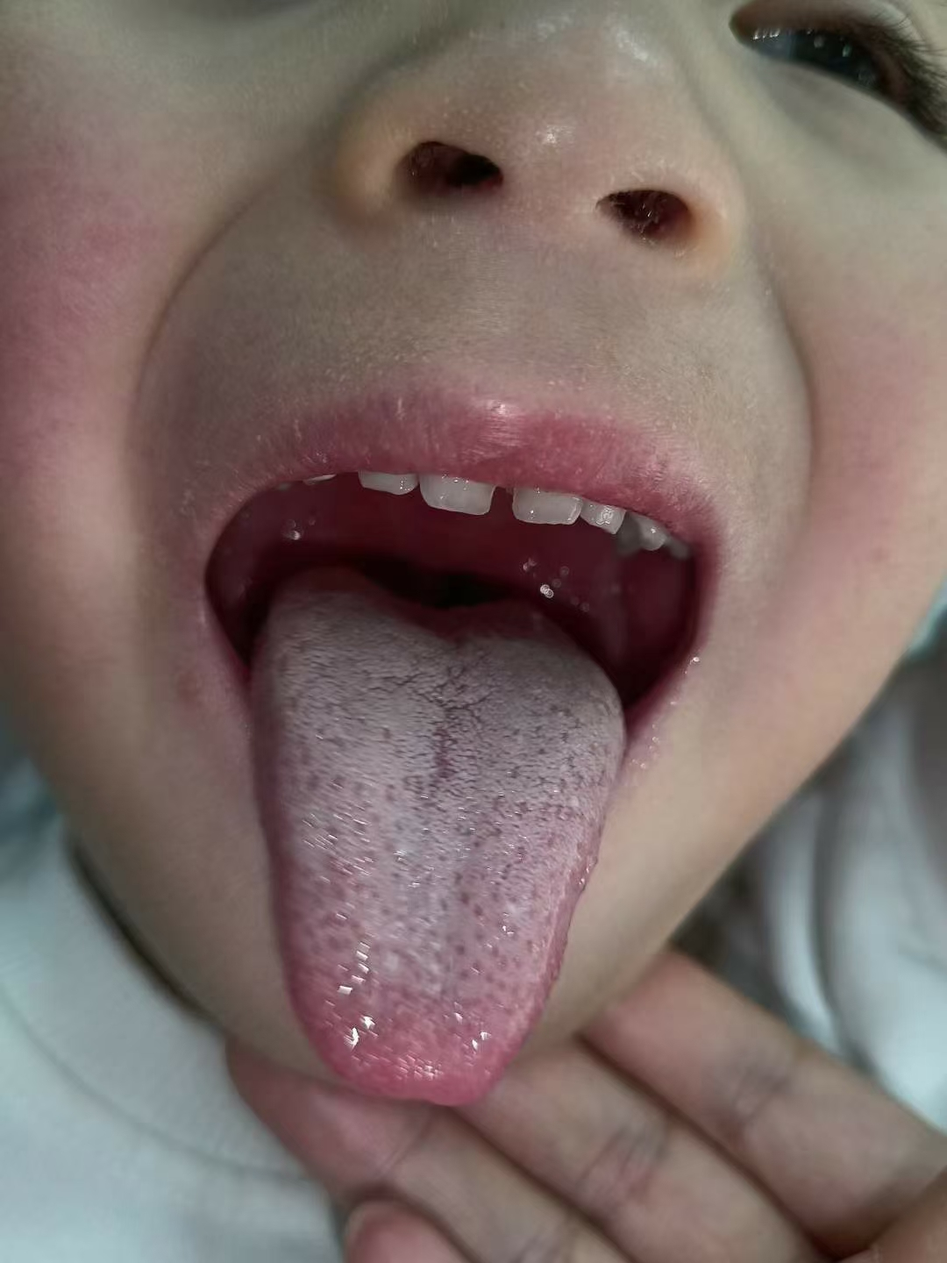baitaishe: (252, 591, 622, 1103)
hongdianshe: (304, 720, 538, 1000)
